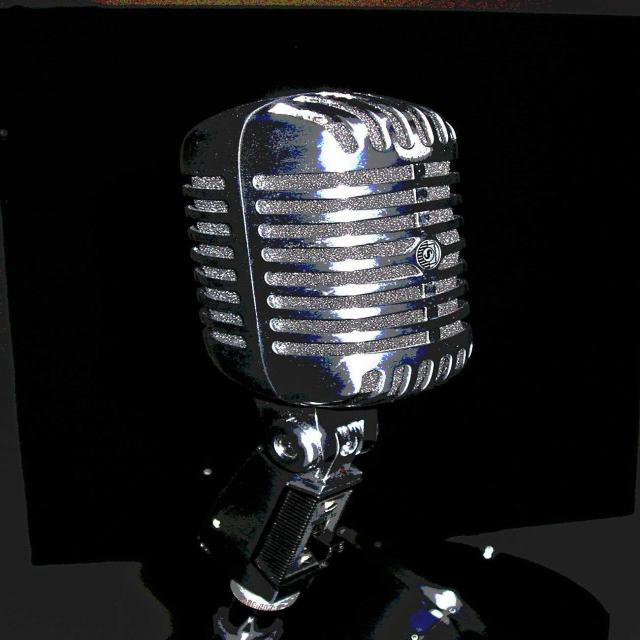microphone: (183, 91, 471, 409)
